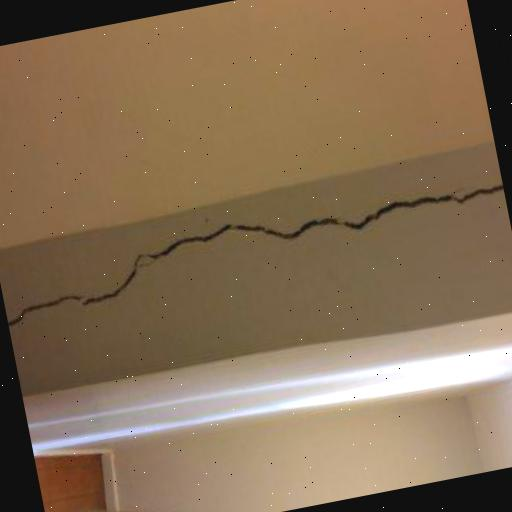spalling: (7, 178, 502, 338)
